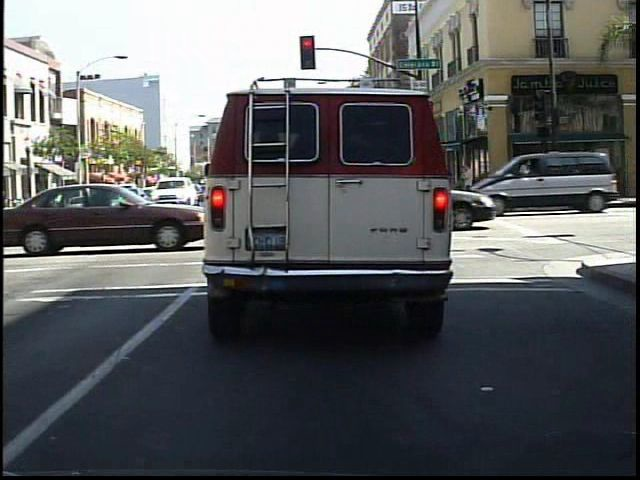person: (537, 155, 558, 206), (511, 162, 531, 207)
